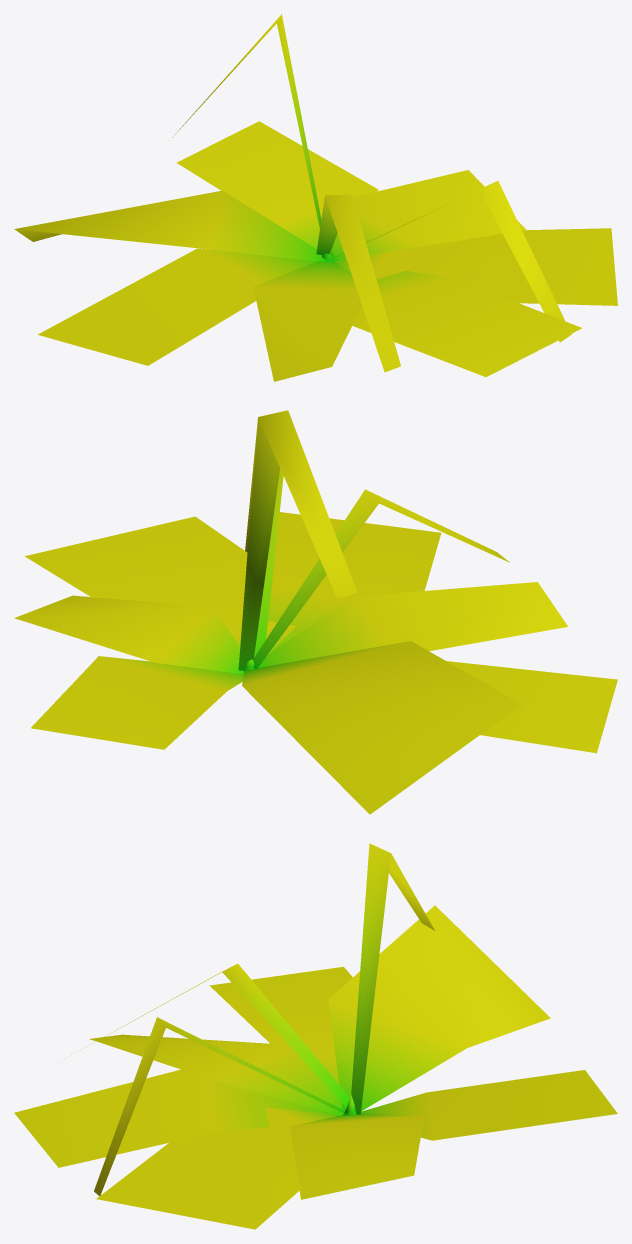
File: Broadleaf Plantain_LOD3_Var4_sfhjc.fbx
The picture shows the model from 3 angles, top to bottom: view 1: azimuth 30°, elevation 25°; view 2: azimuth 150°, elevation 25°; view 3: azimuth 270°, elevation 25°; orthographic projection. The views are drawn at different scales.
Visible parts, largest first — view 1: _c5eb_Var4_LOD3; view 2: _c5eb_Var4_LOD3; view 3: _c5eb_Var4_LOD3.
Boxes of the visible parts, left/top/right/bottom form: _c5eb_Var4_LOD3: left=14, top=14, right=617, bottom=381; _c5eb_Var4_LOD3: left=14, top=410, right=617, bottom=814; _c5eb_Var4_LOD3: left=14, top=843, right=617, bottom=1229.
Size of the model in its own units: 21.42 by 9.99 by 20.17.
